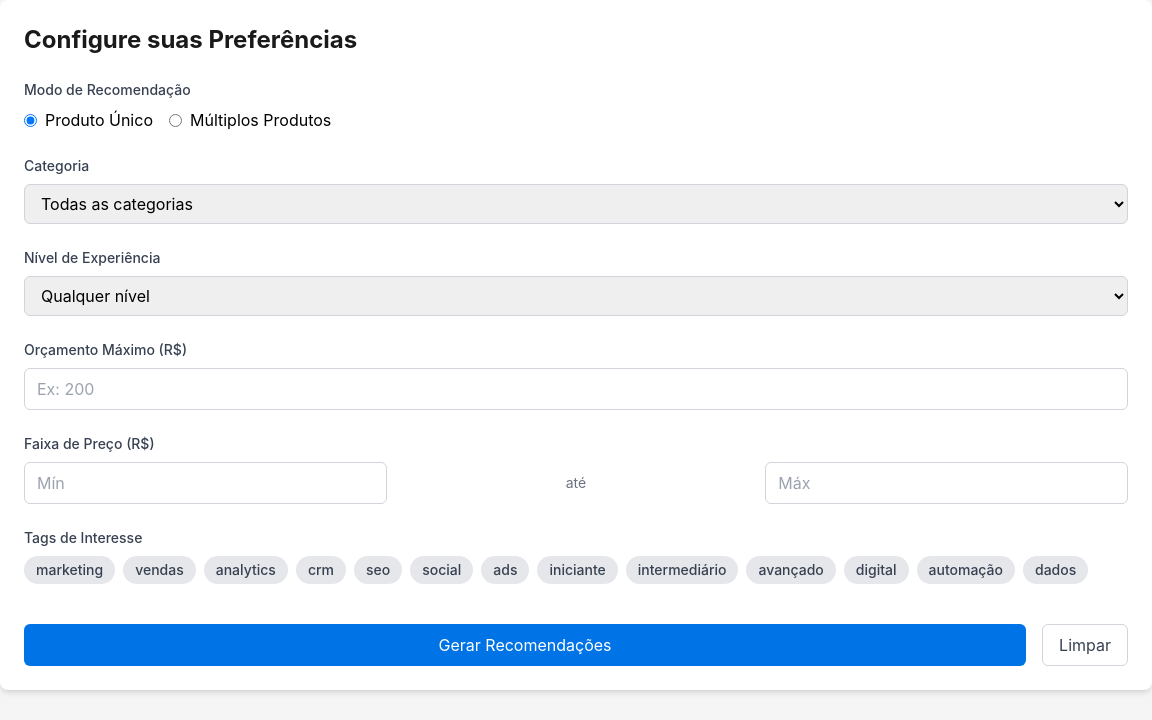
Form Component › deve permitir seleção de modo de recomendação
Expected: the radio button showing "single" is checked, [24,114,37,126]
Click the radio button showing "multiple": {"x": 176, "y": 120} [169,114,182,126]
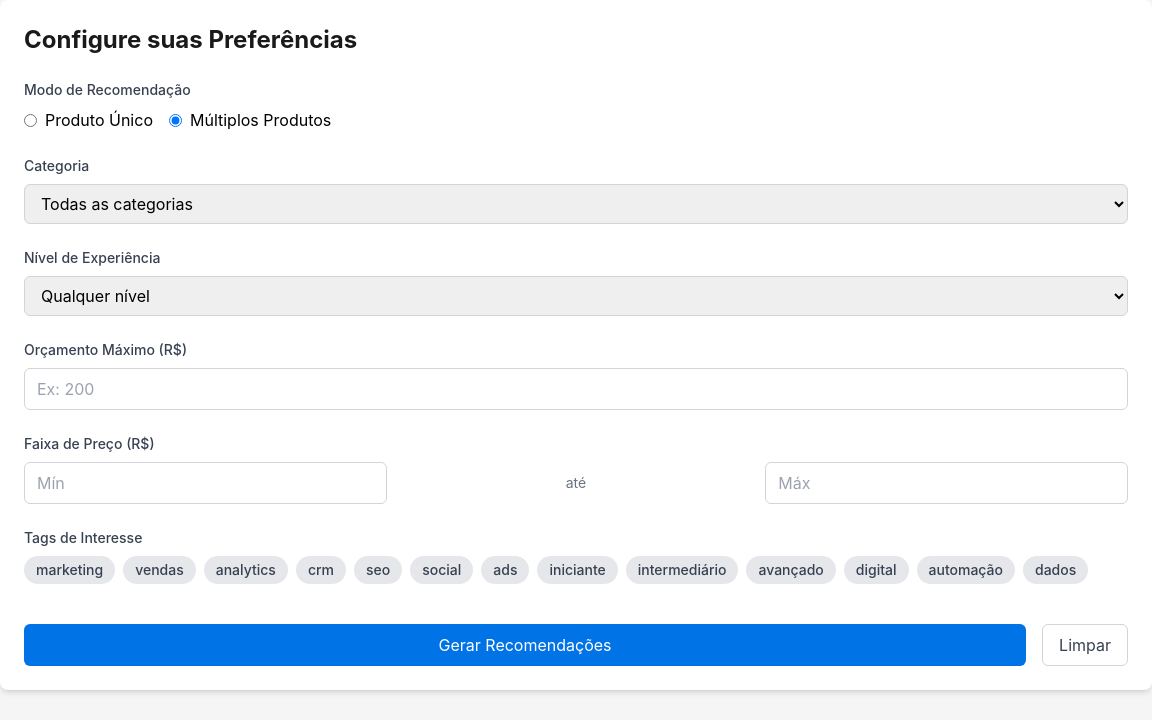
Expected: the radio button showing "multiple" is checked, [169,114,182,126]
Expected: the radio button showing "single" is not checked, [24,114,37,126]
